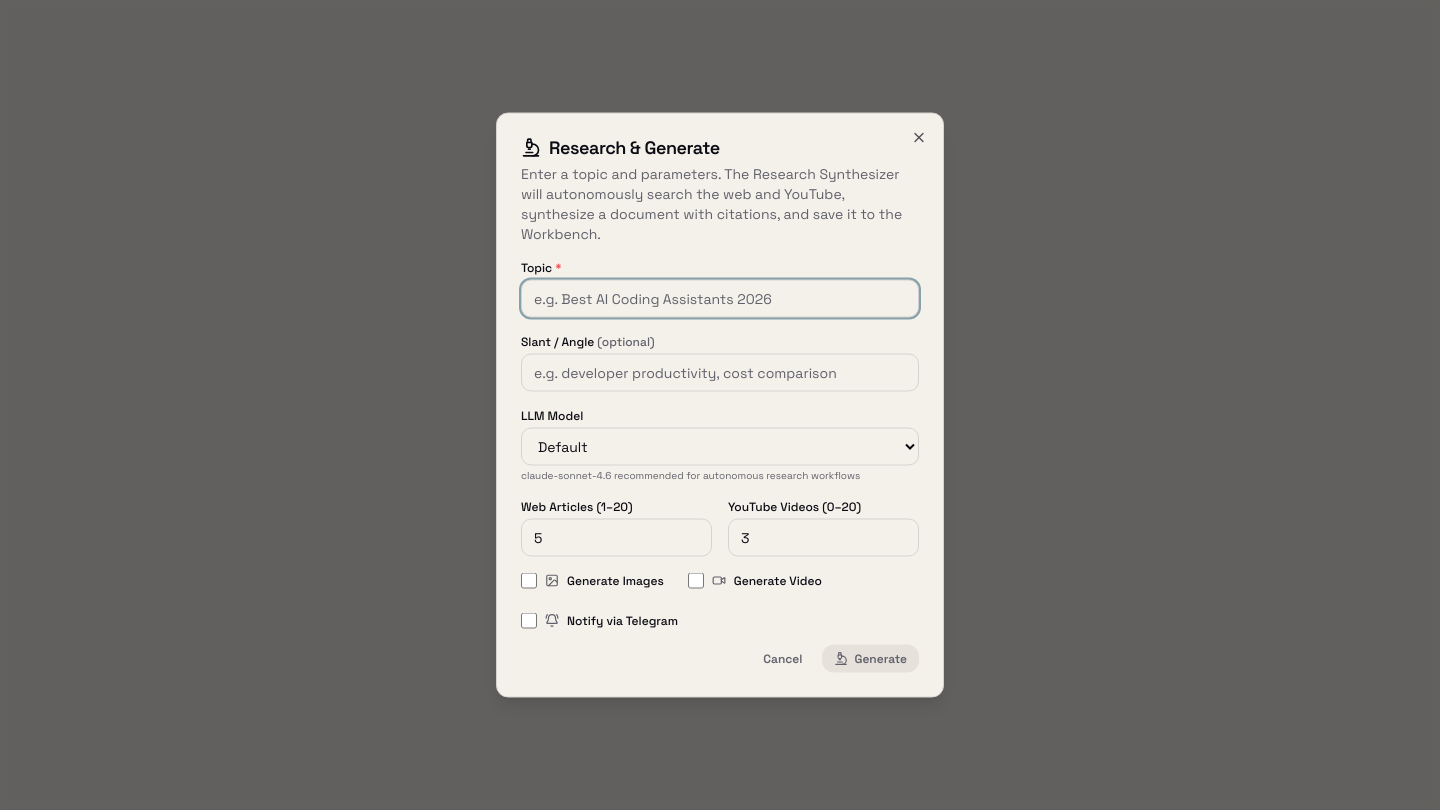
Test case: ResearchGenerateDialog › enables Generate button when topic is filled
Type "AI Coding Tools" into the field labelled "Topic *" at [720, 298], box [521, 280, 919, 318]
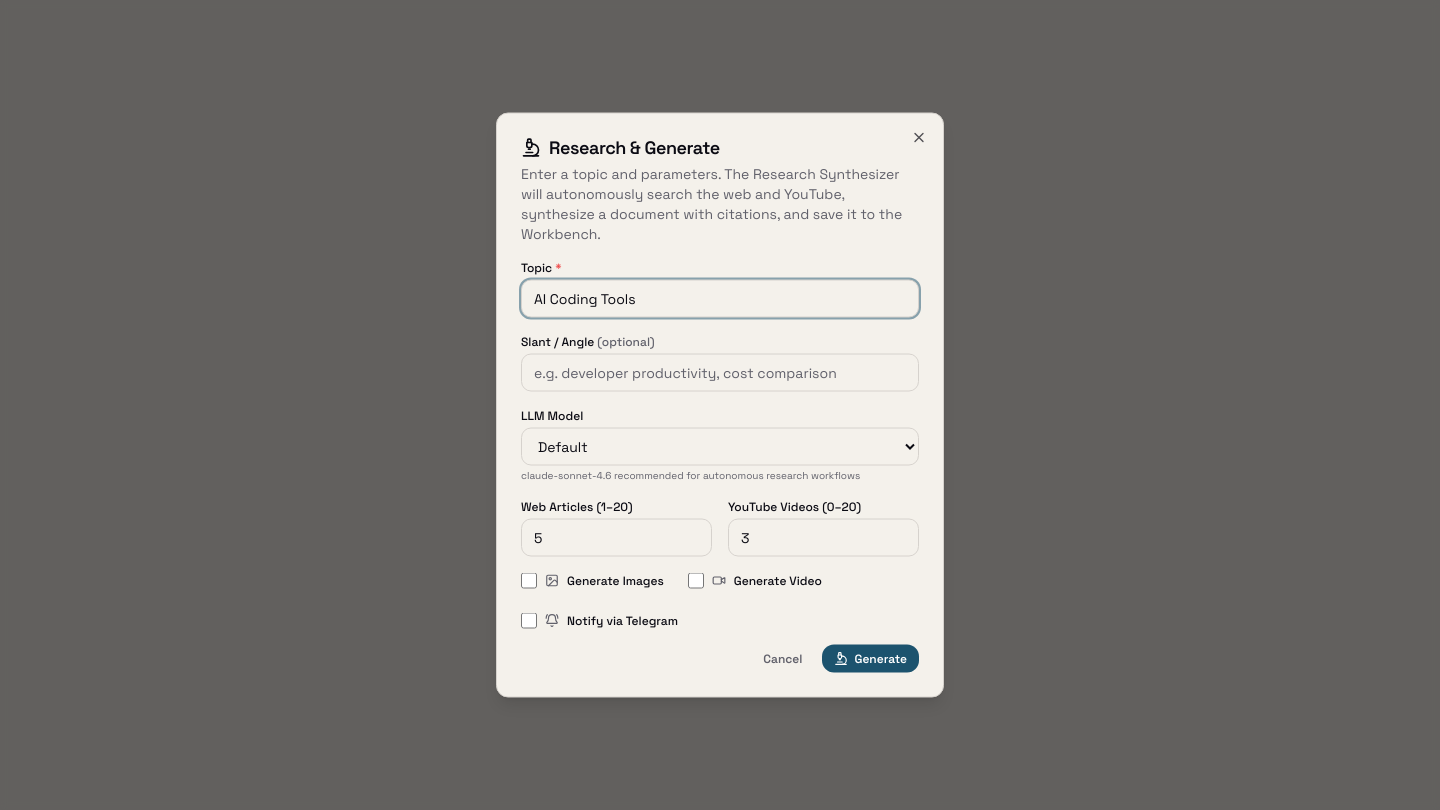
Now the button "Generate" is enabled, box [822, 644, 919, 672]
